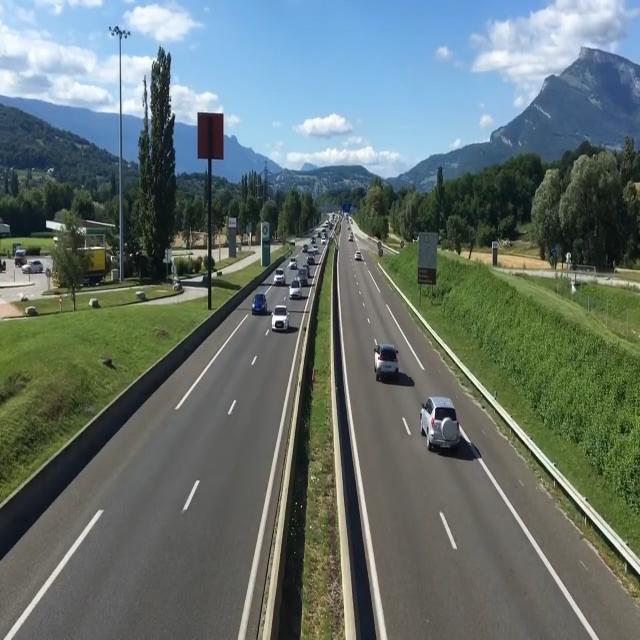car: (422, 396, 459, 459), (372, 339, 403, 387), (272, 302, 290, 336), (249, 291, 268, 317), (288, 282, 303, 302), (273, 266, 286, 286), (351, 249, 365, 265)
